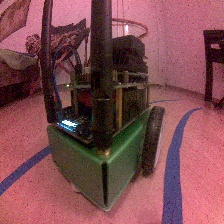rob: (45, 33, 166, 212)
